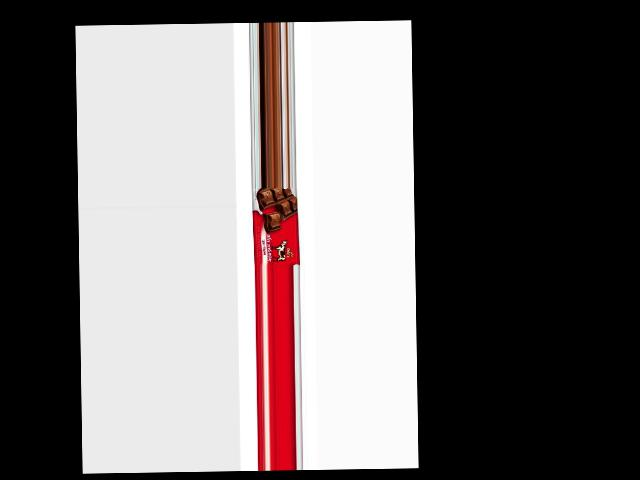chocolate: (251, 187, 298, 266)
